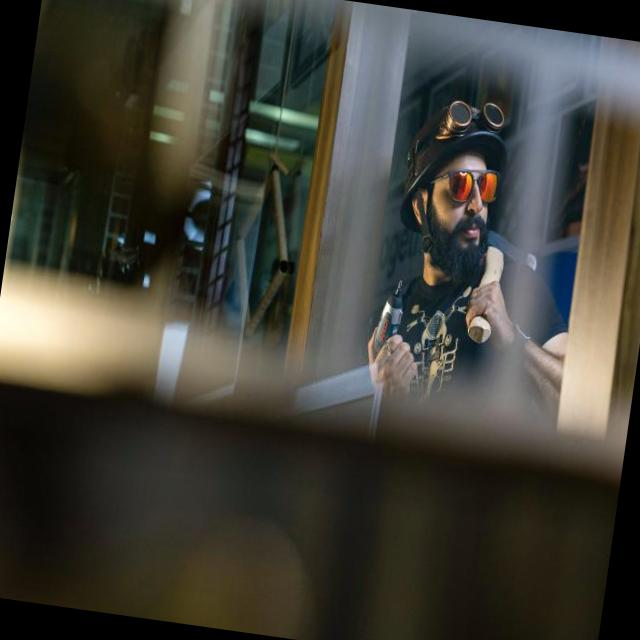Axe: (480, 231, 536, 286), (467, 316, 492, 345)
